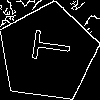T: (23, 28, 72, 65)
